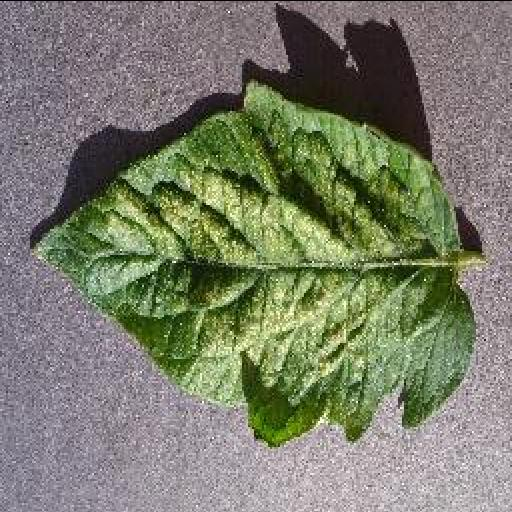disease_tomato: (32, 78, 478, 444)
